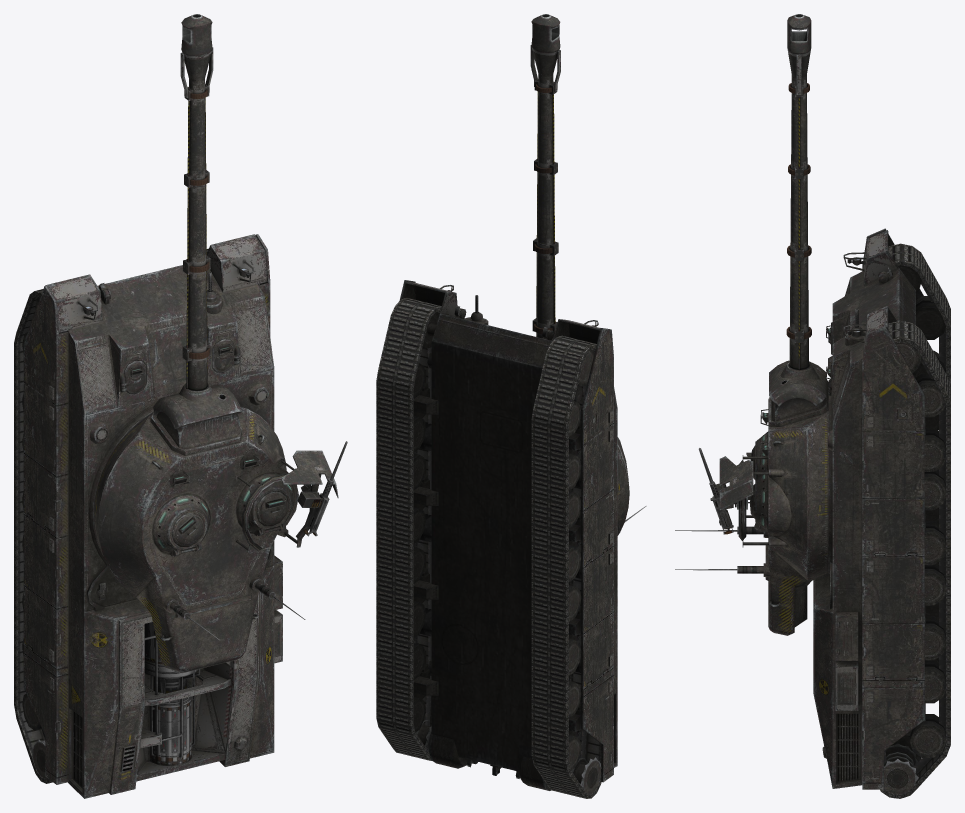
3 views of the same model, side by side, from view 1: azimuth 30°, elevation 25°; view 2: azimuth 150°, elevation 25°; view 3: azimuth 270°, elevation 25° (orthographic). The views are drawn at different scales.
Visible parts, largest first — view 1: hull, turret_01, hull_nc, gun_01, turret_01_nc, chassis_track_L, gun_01_mask; view 2: hull, chassis_track_R, chassis_track_L, gun_01, hull_nc, turret_01, chassis_wheel_L_15; view 3: hull, turret_01, gun_01, hull_nc, chassis_track_R, turret_01_nc, gun_01_mask, chassis_track_L, chassis_wheel_R_15, chassis_wheel_R_14, chassis_wheel_L_02, chassis_wheel_R_04 (+6 smaller).
Boxes of the visible parts, x1,y1,x2,y2 form: hull: (23,234,274,798); turret_01: (93,407,298,672); hull_nc: (45,234,282,772); gun_01: (180,14,213,390); turret_01_nc: (152,434,347,640); chassis_track_L: (14,289,67,783); gun_01_mask: (153,383,242,429); hull: (399,280,617,790); chassis_track_R: (376,298,441,760); chassis_track_L: (531,335,601,798); gun_01: (530,14,560,340); hull_nc: (405,281,613,778); turret_01: (617,437,629,535); chassis_wheel_L_15: (571,757,601,794); hull: (813,228,924,789); turret_01: (746,379,828,635); gun_01: (786,14,811,370); hull_nc: (822,230,925,758); chassis_track_R: (880,320,950,798); turret_01_nc: (675,441,787,606); gun_01_mask: (769,360,826,406); chassis_track_L: (888,243,950,385); chassis_wheel_R_15: (884,743,918,794); chassis_wheel_R_14: (909,714,945,758); chassis_wheel_L_02: (916,296,945,339); chassis_wheel_R_04: (924,428,945,471).
Size of the model in its own units: 3.37 by 11.58 by 3.92.
Materials: 2 (2 with a texture image).
